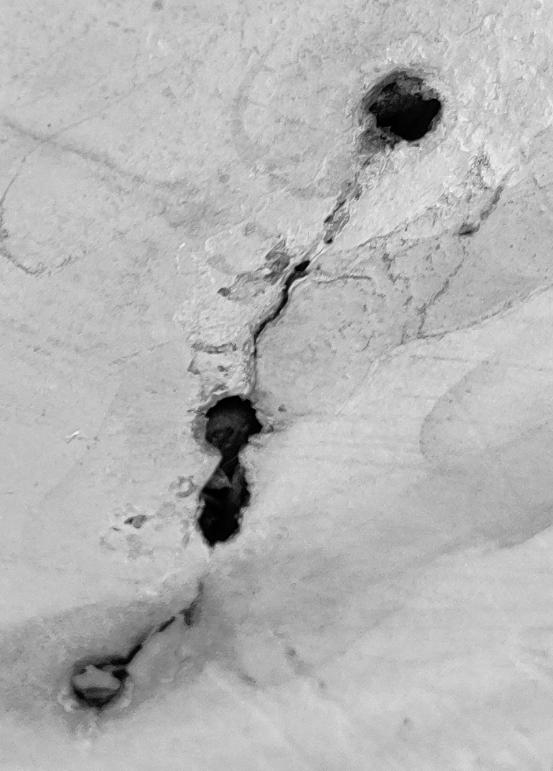crack: (1, 0, 553, 771)
